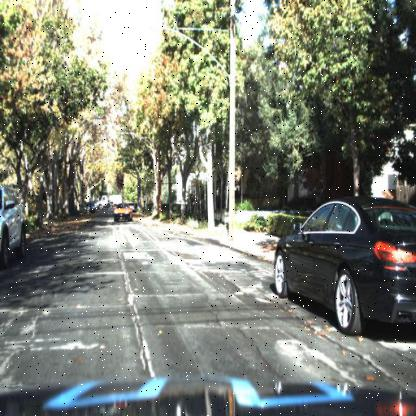car: (267, 184, 415, 342), (272, 192, 414, 340), (0, 180, 28, 272), (110, 201, 134, 226)
